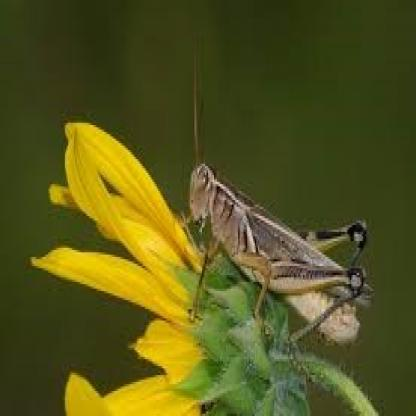grasshopper: (180, 124, 376, 357)
